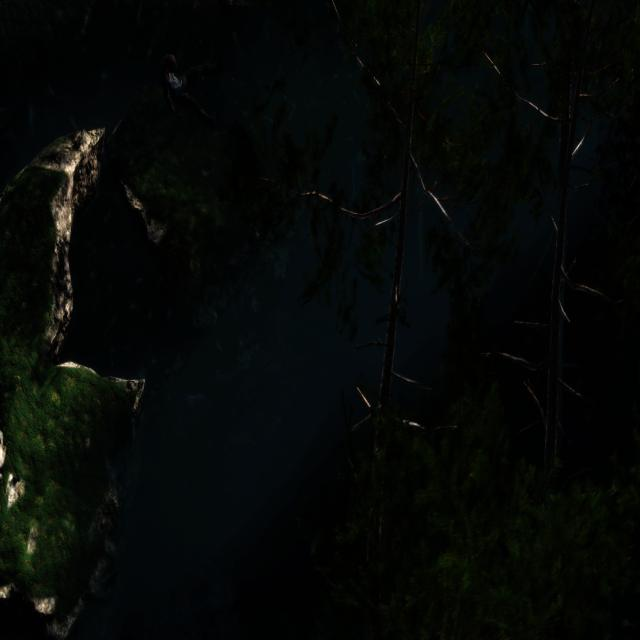Human: (157, 41, 223, 128)
